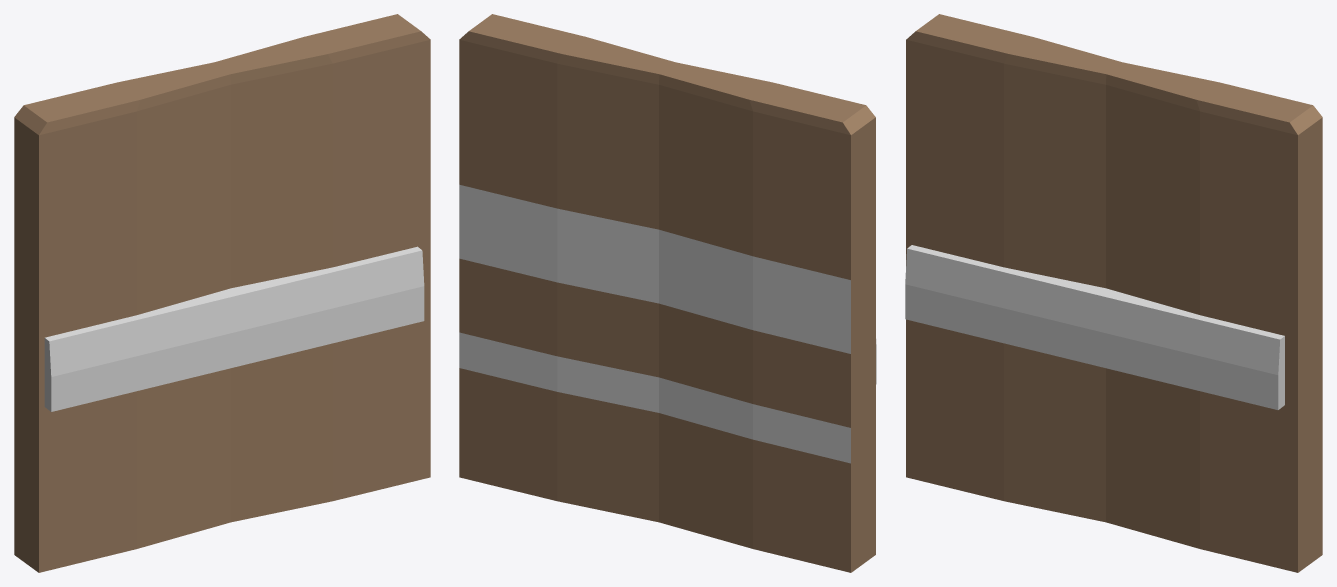
The model's file is door 1.fbx.
3 renders of one model, left to right at view 1: azimuth 30°, elevation 25°; view 2: azimuth 150°, elevation 25°; view 3: azimuth 330°, elevation 25°, orthographic.
Visible parts, largest first — view 1: Cube.004; view 2: Cube.004; view 3: Cube.004.
Part boxes in pixels (<box>): Cube.004: <box>14,14,430,572</box>; Cube.004: <box>459,14,876,572</box>; Cube.004: <box>905,14,1322,572</box>.
Size of the model in its own units: 374 by 409 by 51.86.
